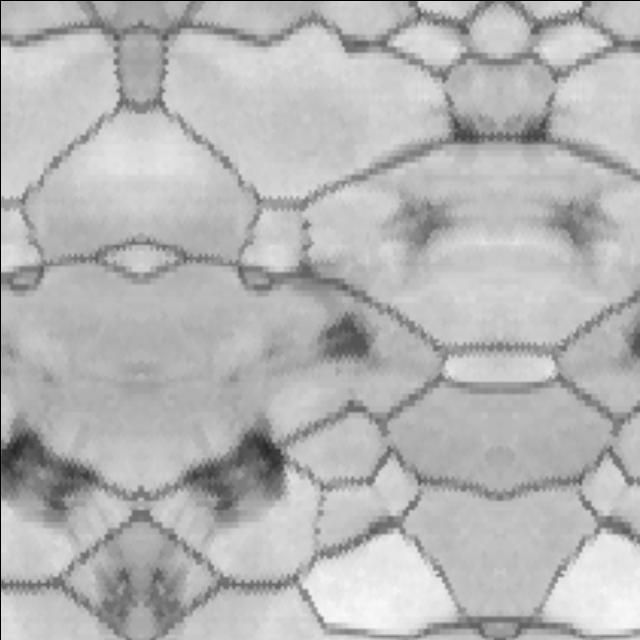good_void: (158, 398, 300, 542), (0, 402, 120, 540), (289, 292, 392, 386), (373, 184, 456, 260), (544, 184, 627, 260), (81, 547, 142, 640), (140, 548, 198, 640), (435, 99, 489, 154), (511, 100, 564, 154), (614, 306, 640, 370)
